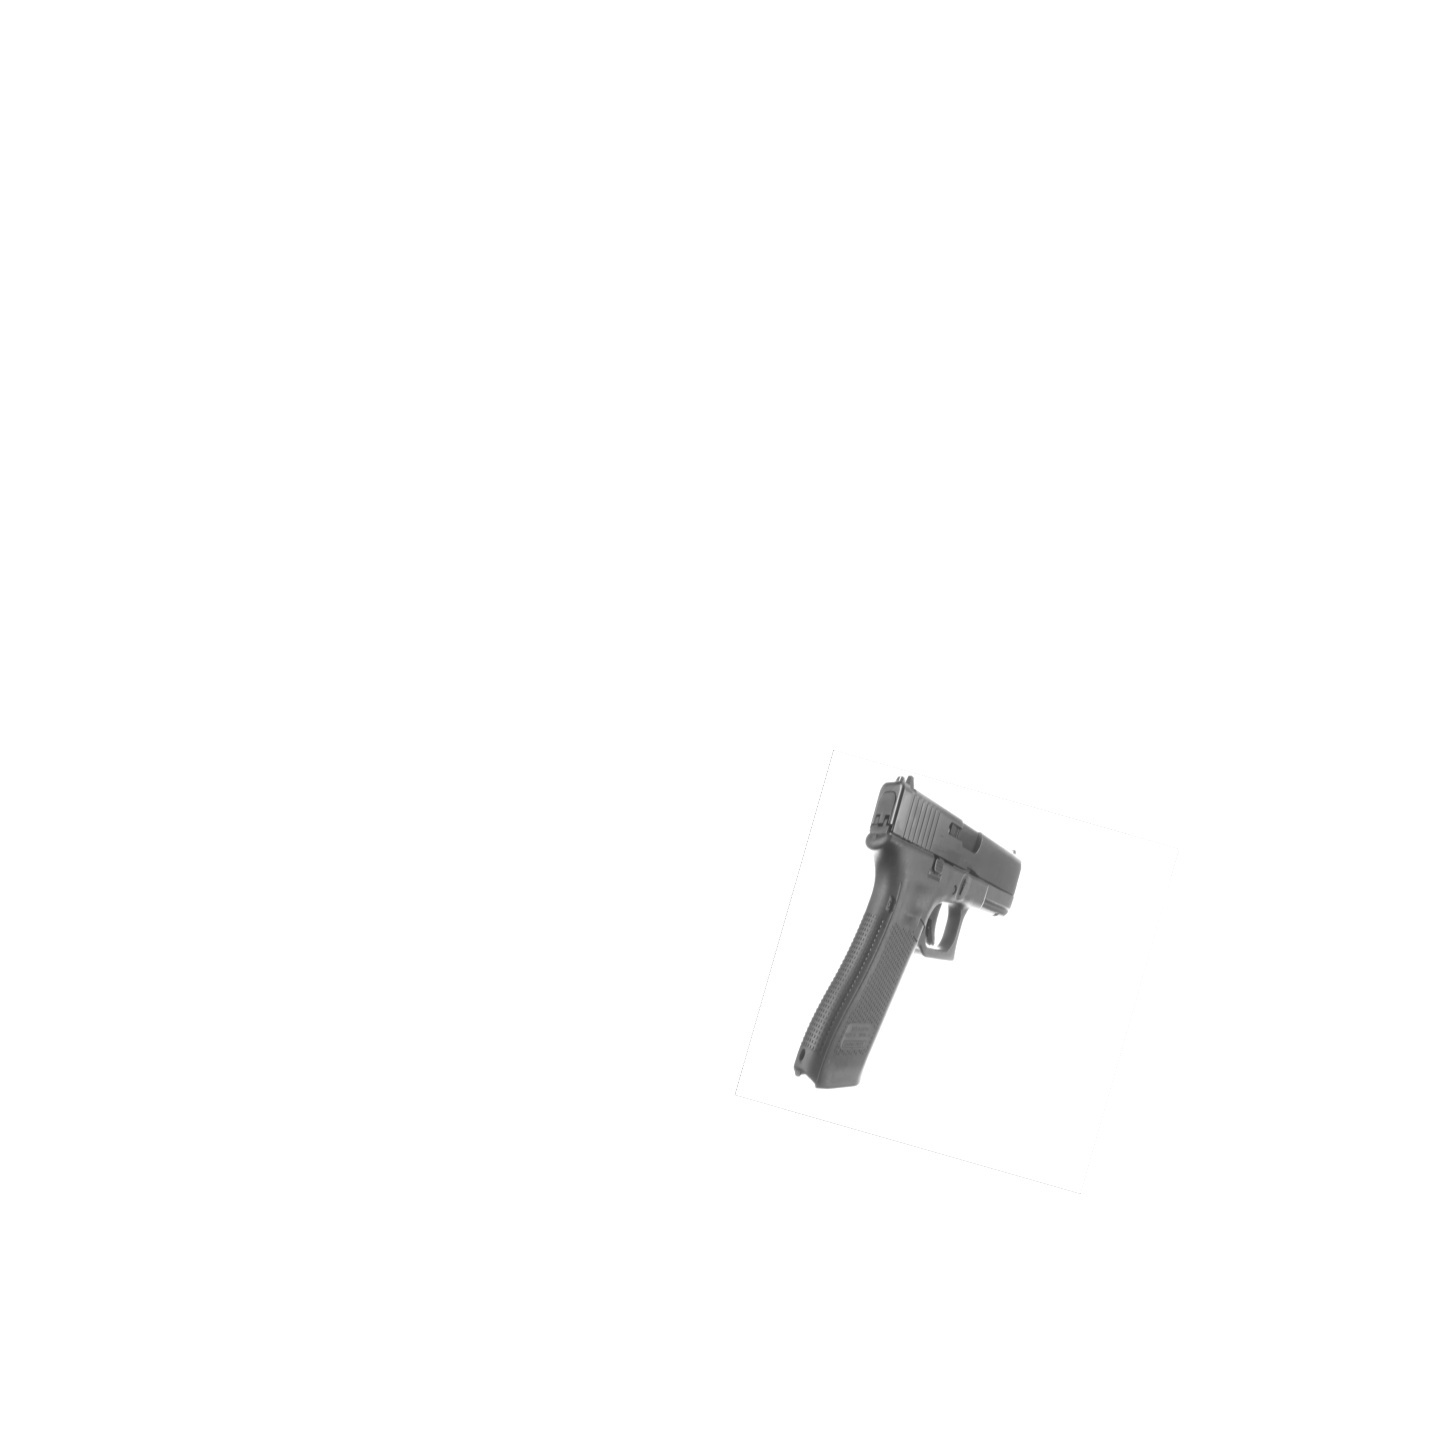gun: (784, 765, 1034, 1094)
